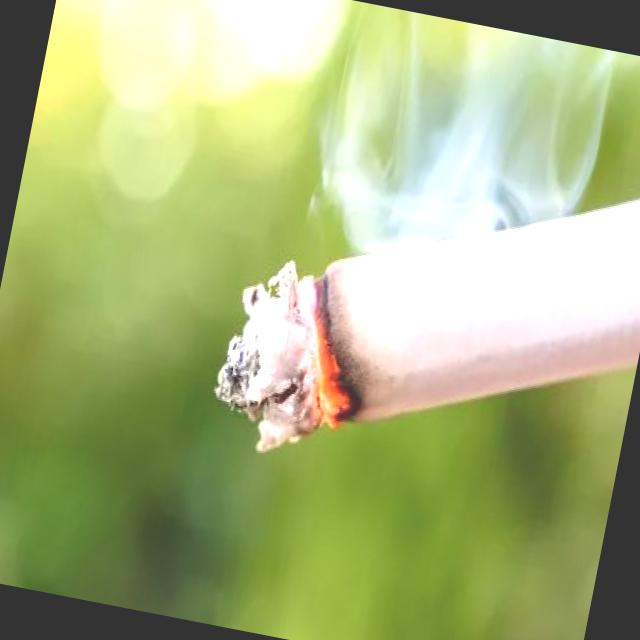smoke: (197, 101, 640, 530)
